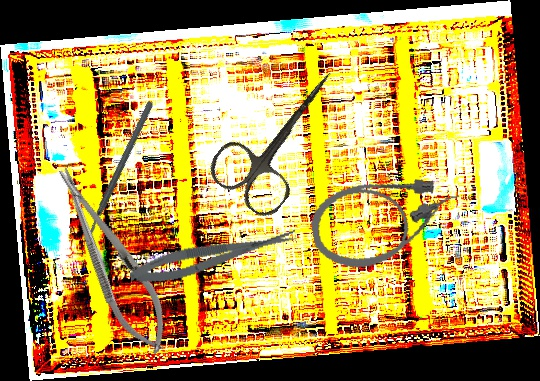Cannula: (305, 167, 469, 276)
Chopper: (44, 99, 198, 248)
Iris Scissors: (202, 48, 365, 223)
Micro Scissor: (126, 223, 301, 290)
Needle Holder: (41, 157, 183, 363)
